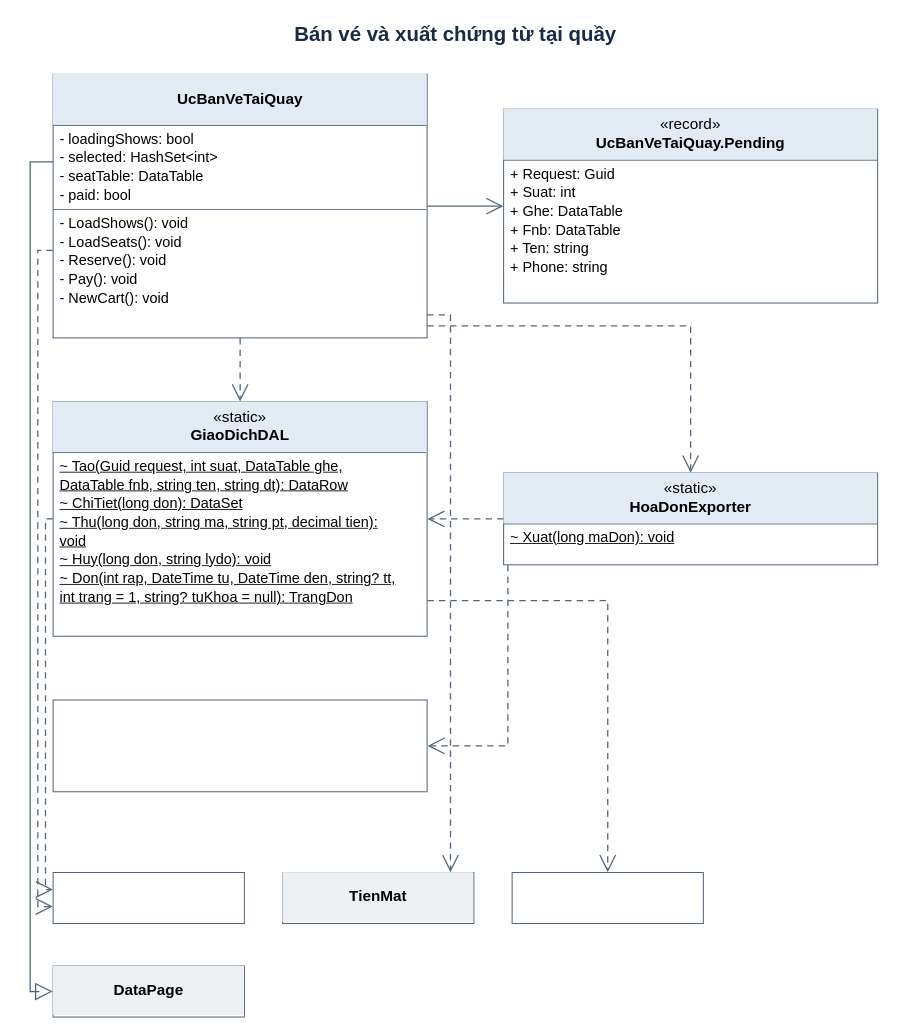
The diagram is 897 pixels wide and 1032 high, and some of its shapes have lost their labels. Each missing label, with the box of its shape:
Db: (52, 872, 244, 924)
GiaoDichDAL.TrangDo n: (511, 872, 703, 924)
«static» TicketQr ~ Create(Guid ticket): byte[]: (52, 699, 427, 792)
